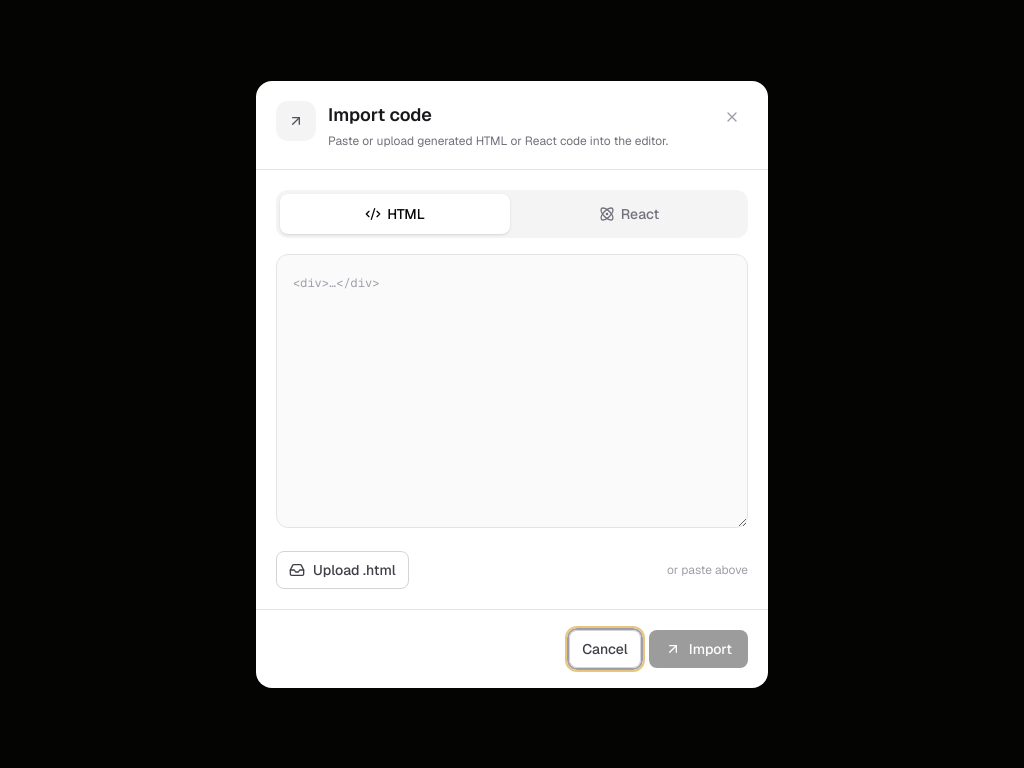
Scenario: CodeImportDialog › toggles the source type, updating the import textarea label
Expected: the text box named "HTML code to import" is shown, [276,254,748,528]
Click the radio button labelled "React". click: (629, 214)
box: [514,194,744,234]
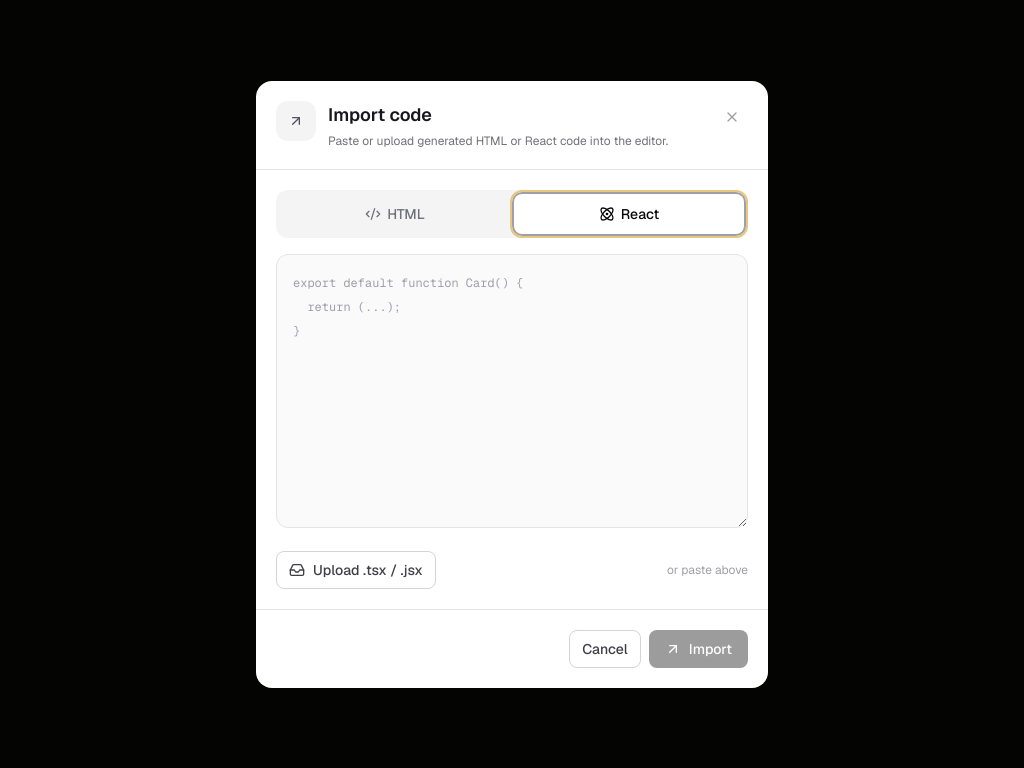
Expected: the text box named "React code to import" is shown, [276,254,748,528]
